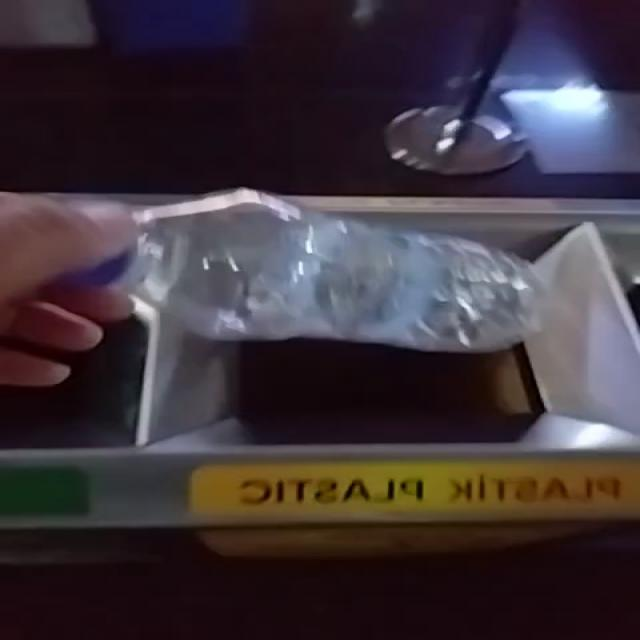plastic: (136, 188, 537, 352)
